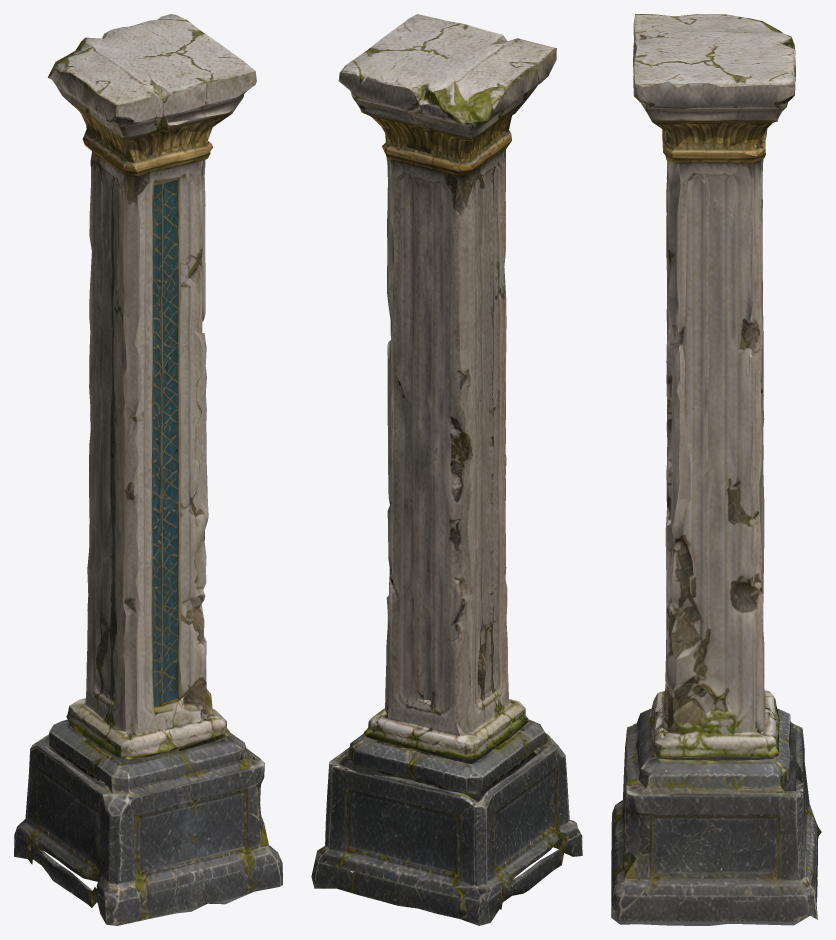
File: runtime-web.glb
The picture shows the model from 3 angles, left to right: view 1: azimuth 30°, elevation 25°; view 2: azimuth 150°, elevation 25°; view 3: azimuth 270°, elevation 25°; orthographic projection. The views are drawn at different scales.
Parts seen in each view (by area): view 1: CanonicalGeometry; view 2: CanonicalGeometry; view 3: CanonicalGeometry.
Part boxes in pixels (box(x1,y1,x2,y2)): CanonicalGeometry: box(14, 14, 282, 925); CanonicalGeometry: box(311, 14, 582, 925); CanonicalGeometry: box(611, 14, 821, 925).
Size of the model in its own units: 1.6 by 7 by 1.6.
Materials: 1 (1 with a texture image).
